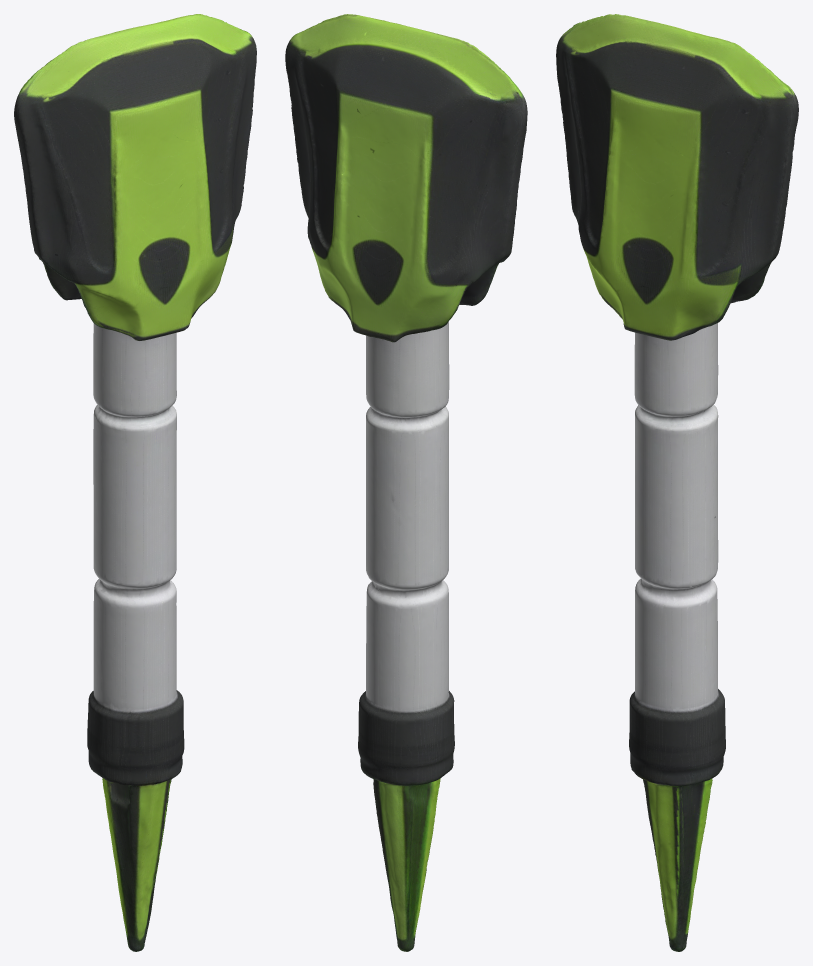
The model's file is Pillar.glb.
The picture shows the model from 3 angles, left to right: view 1: azimuth 30°, elevation 25°; view 2: azimuth 150°, elevation 25°; view 3: azimuth 330°, elevation 25°; orthographic projection.
Size of the model in its own units: 0.5433 by 2 by 0.2398.
1 material, 1 textured.
